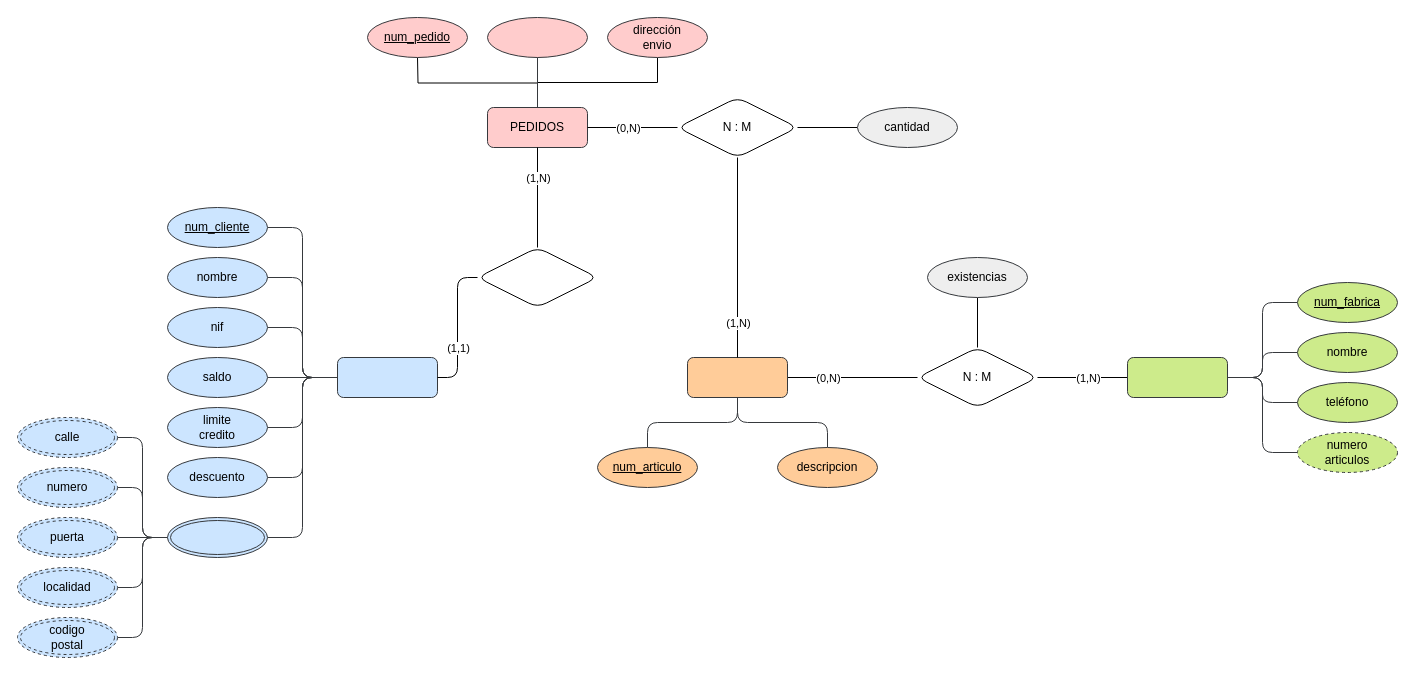
The diagram is 1415 pixels wide and 675 high, and some of its shapes have lost their labels. The shapes that lost their labels are listed below. From the top down, each one's centre as x and y in pixels, then its label:
point (537, 37): fecha
point (537, 277): N 1
point (387, 377): CLIENTES
point (737, 377): ARTICULOS
point (1177, 377): FABRICAS
point (217, 537): direcciones envio
